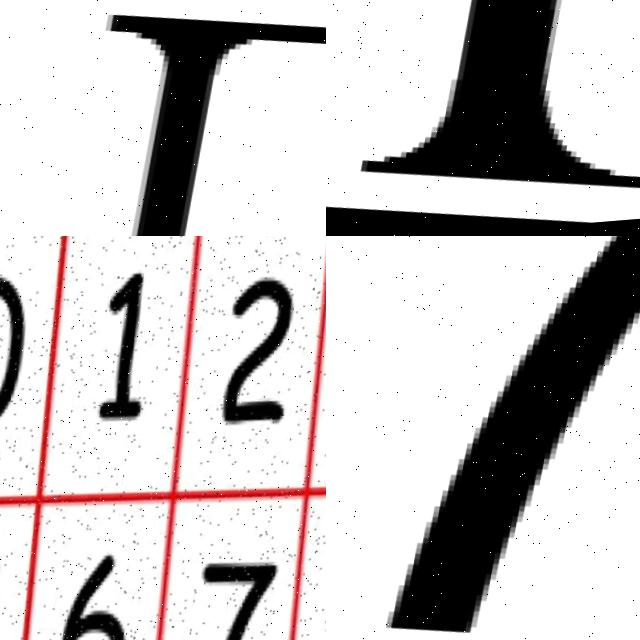0: (0, 268, 42, 437)
1: (79, 265, 172, 435)
2: (205, 272, 312, 441)
6: (42, 545, 152, 640)
7: (374, 236, 640, 640), (177, 551, 294, 640)
E: (366, 0, 640, 193)
F: (110, 18, 326, 236)
